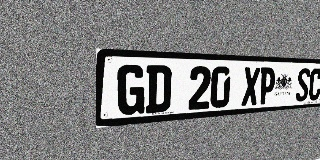0: (210, 66, 231, 108)
2: (188, 66, 211, 110)
C: (308, 68, 320, 101)
D: (145, 65, 172, 113)
G: (117, 64, 146, 116)
P: (258, 67, 276, 105)
S: (295, 68, 311, 102)
X: (241, 67, 260, 106)
